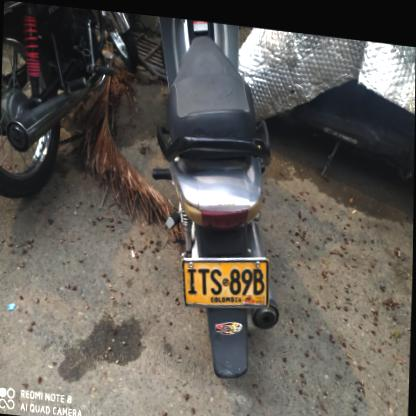placa: (177, 244, 272, 310)
